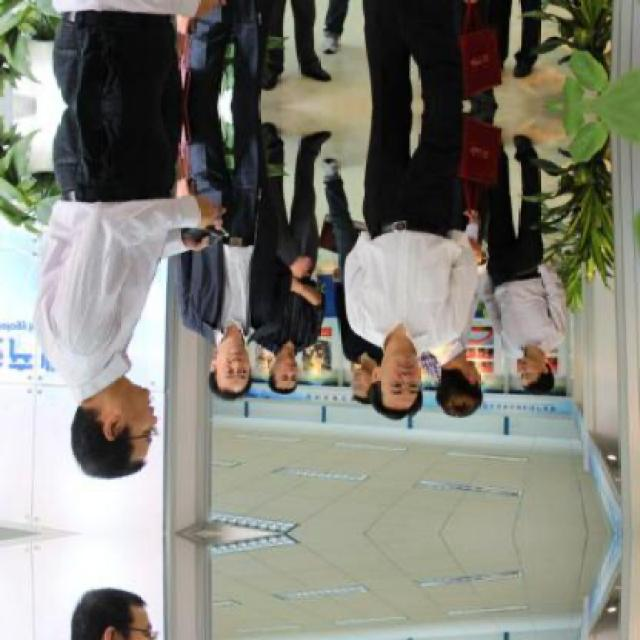sin casco: (58, 353, 178, 491), (347, 327, 462, 429), (185, 305, 283, 412), (256, 337, 318, 411), (507, 348, 553, 396)
